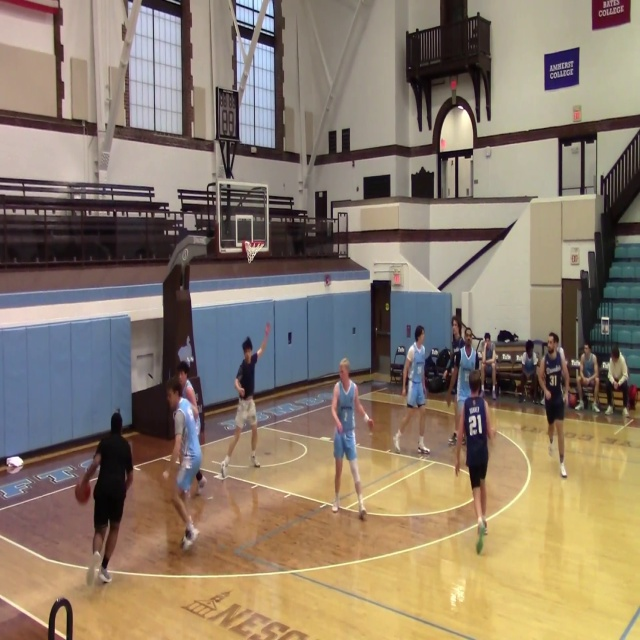Basketball: (74, 482, 91, 503)
